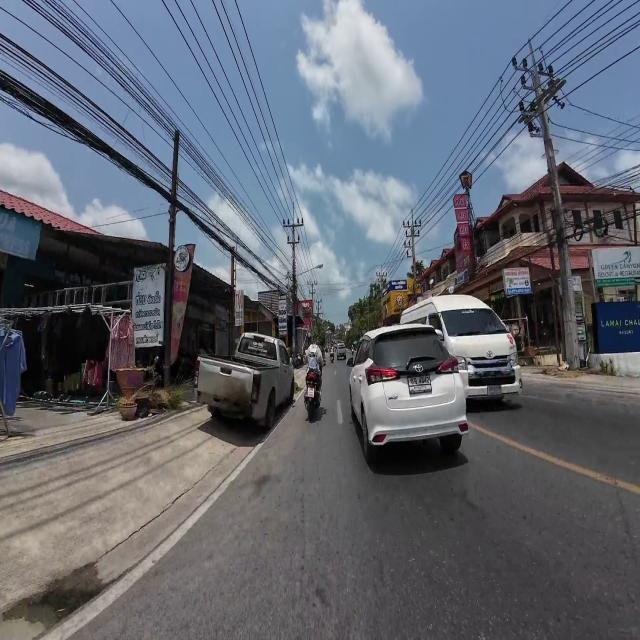car: (347, 325, 467, 462), (337, 342, 346, 359)
motorcycle: (304, 370, 321, 418), (330, 352, 334, 363)
